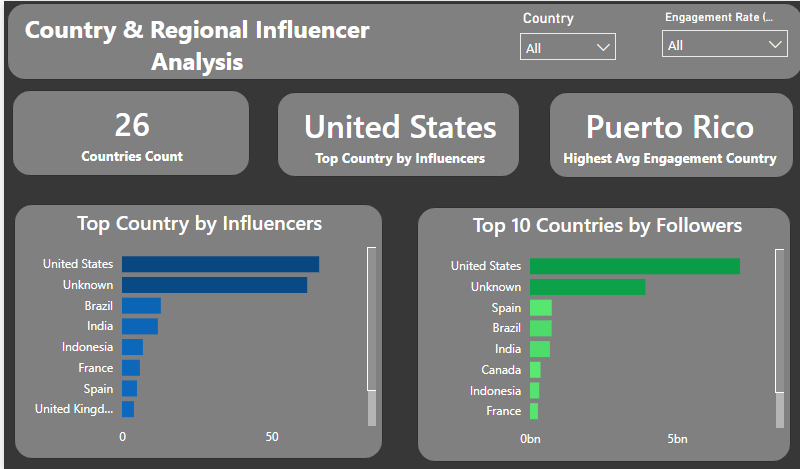

What the dashboard file says about the page in this screenshot:
{"tool":"powerbi","page":{"name":"  Dashboard 3","canvas":[800,471],"ordinal":2},"visuals":[{"type":"shape","box":[3,2,796,77],"z":0},{"type":"shape","box":[8,89,238,86],"z":1000},{"type":"shape","box":[273,91,243,85],"z":2000},{"type":"shape","box":[545,91,245,86],"z":3000},{"type":"shape","box":[10,203,369,255],"z":4000},{"type":"shape","box":[413,206,374,255],"z":5000},{"type":"card","fields":{"Values":["top_insta_influencers_data_cleaned.Countries Count"]},"box":[15,92,226,78],"z":6000},{"type":"card","fields":{"Values":["top_insta_influencers_data_cleaned.Top Country by Influencers"]},"box":[283,94,226,78],"z":7000},{"type":"card","fields":{"Values":["top_insta_influencers_data_cleaned.Highest Avg Engagement Country"]},"box":[553,94,226,78],"z":8000},{"type":"slicer","fields":{"Values":["top_insta_influencers_data_cleaned.Engagement Rate (60D)"]},"box":[648,4,146,74],"z":9000},{"type":"slicer","fields":{"Values":["top_insta_influencers_data_cleaned.Country"]},"box":[506,4,116,72],"z":10000},{"type":"textbox","box":[11,6,364,79],"z":11000},{"type":"barChart","title":"Top Country by Influencers","fields":{"Category":["top_insta_influencers_data_cleaned.Country"],"Y":["top_insta_influencers_data_cleaned.Influencers Count"]},"box":[14,207,363,247],"z":12000},{"type":"barChart","title":"Top 10 Countries by Followers","fields":{"Category":["top_insta_influencers_data_cleaned.Country"],"Y":["Sum(top_insta_influencers_data_cleaned.Followers)"]},"box":[422,209,363,247],"z":13000}]}

Visuals, with their boxes in screenshot pixels (x1, y1, x2, y2), scaled from the page's 800x471 canvas onto the 800x469 screenshot:
shape: region(3, 2, 799, 79)
shape: region(8, 89, 246, 174)
shape: region(273, 91, 516, 175)
shape: region(545, 91, 790, 176)
shape: region(10, 202, 379, 456)
shape: region(413, 205, 787, 459)
card - top_insta_influencers_data_cleaned.Countries Count: region(15, 92, 241, 169)
card - top_insta_influencers_data_cleaned.Top Country by Influencers: region(283, 94, 509, 171)
card - top_insta_influencers_data_cleaned.Highest Avg Engagement Country: region(553, 94, 779, 171)
slicer - top_insta_influencers_data_cleaned.Engagement Rate (60D): region(648, 4, 794, 78)
slicer - top_insta_influencers_data_cleaned.Country: region(506, 4, 622, 76)
textbox: region(11, 6, 375, 85)
"Top Country by Influencers" barChart: region(14, 206, 377, 452)
"Top 10 Countries by Followers" barChart: region(422, 208, 785, 454)
